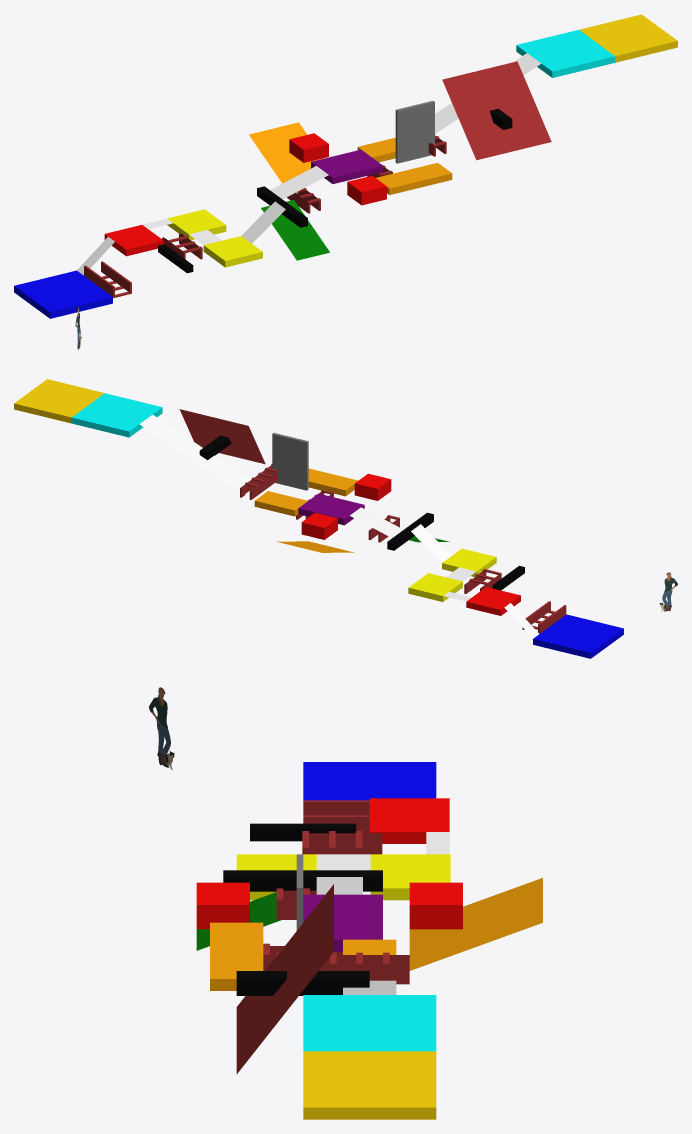
The model's file is CircuitoObstaculos.fbx.
3 views of the same model, one above another, from view 1: azimuth 30°, elevation 25°; view 2: azimuth 150°, elevation 25°; view 3: azimuth 270°, elevation 25° (orthographic). The views are drawn at different scales.
Parts seen in each view (by area): view 1: Group21, Group8, Group3, Group23, Group16, Group15, Group4, Group17, Group2, Group14, Group7, Group10 (+7 smaller); view 2: Group8, Group3, Group23, Group16, Group21, Group15, Group2, Group12, Group10, Group7, Group14, Group5 (+7 smaller); view 3: Group16, Group23, Group21, Group4, Group3, Group10, Group14, Group8, Group12, Group2, Group6, Group22 (+11 smaller).
Boxes of the visible parts, x1,y1,x2,y2 form: Group21: (442, 61, 551, 160); Group8: (77, 53, 541, 275); Group3: (14, 270, 112, 318); Group23: (516, 30, 615, 77); Group16: (579, 14, 677, 62); Group15: (395, 101, 434, 163); Group4: (249, 122, 323, 183); Group17: (261, 200, 329, 260); Group2: (311, 149, 382, 183); Group14: (376, 162, 452, 194); Group7: (203, 236, 262, 267); Group10: (104, 225, 163, 256); Group8: (139, 414, 538, 638); Group3: (533, 614, 623, 658); Group23: (71, 393, 162, 437); Group16: (14, 379, 104, 423); Group21: (179, 409, 265, 464); Group15: (272, 433, 308, 490); Group2: (298, 493, 364, 525); Group12: (408, 573, 462, 601); Group10: (466, 587, 520, 615); Group7: (442, 548, 496, 576); Group14: (308, 468, 358, 496); Group5: (254, 491, 307, 516); Group16: (303, 1051, 436, 1119); Group23: (303, 995, 436, 1051); Group21: (236, 884, 333, 1073); Group4: (409, 878, 542, 970); Group3: (303, 762, 436, 800); Group10: (369, 798, 449, 843); Group14: (210, 922, 263, 990); Group8: (316, 832, 449, 994); Group12: (370, 854, 450, 900); Group2: (303, 894, 382, 951); Group6: (409, 882, 462, 929); Group22: (236, 971, 369, 995).
Bounding box in the file's own units: 1027 × 207 × 296.
